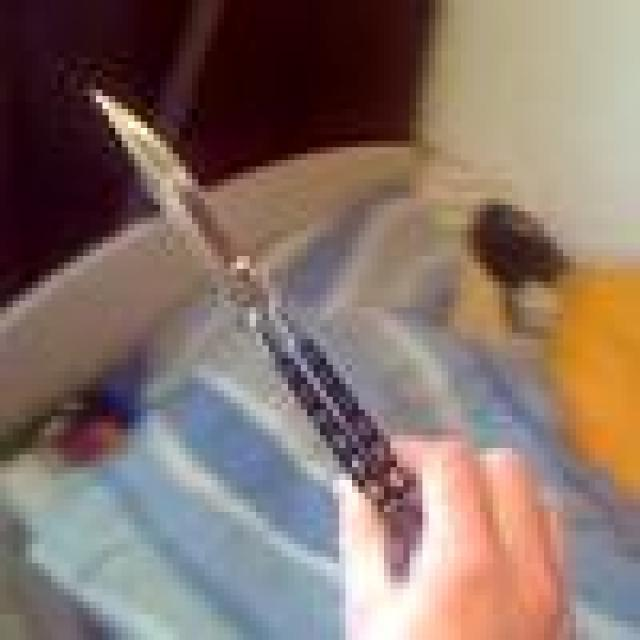knife: (89, 96, 398, 498)
